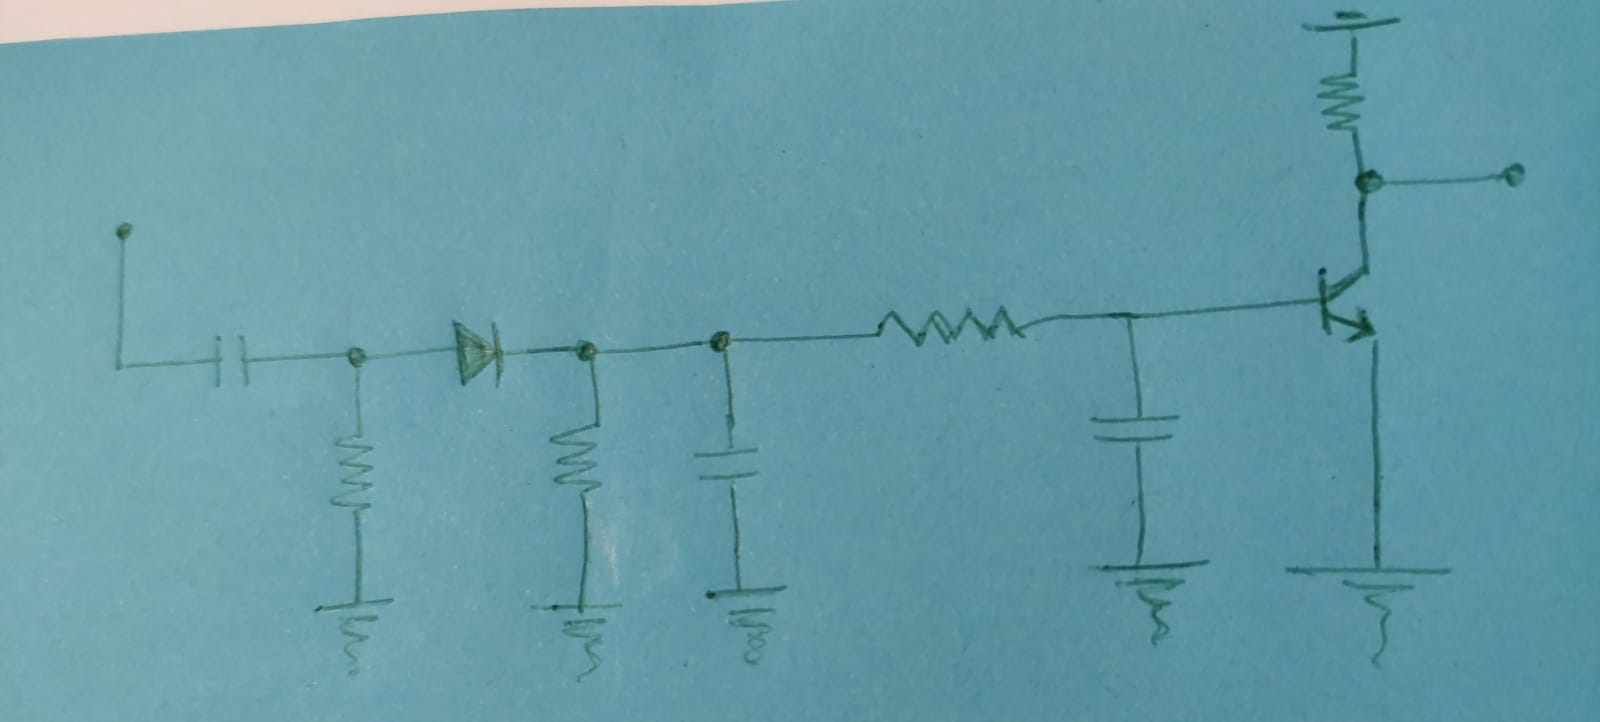capacitor.unpolarized: (1086, 408, 1180, 452), (688, 439, 761, 488), (206, 336, 253, 386)
diode: (448, 318, 504, 385)
gnd: (1284, 551, 1456, 678), (1087, 545, 1213, 656), (533, 584, 624, 686), (704, 572, 790, 673), (310, 590, 398, 683)
junction: (1347, 161, 1390, 197), (566, 336, 609, 367), (336, 340, 373, 372), (702, 326, 740, 357), (1112, 304, 1145, 336), (107, 349, 138, 379)
resistor: (870, 300, 1027, 349), (546, 418, 603, 501), (329, 428, 376, 513), (1316, 67, 1368, 135)
terminal: (1490, 159, 1530, 196), (110, 217, 140, 251)
transistor: (1312, 259, 1387, 349)
voltage.dc: (1299, 6, 1393, 39)
